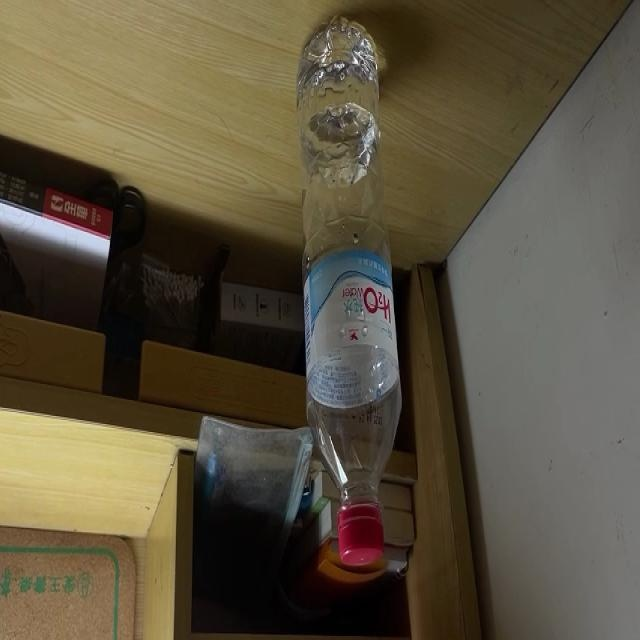Water: (298, 17, 396, 570)
